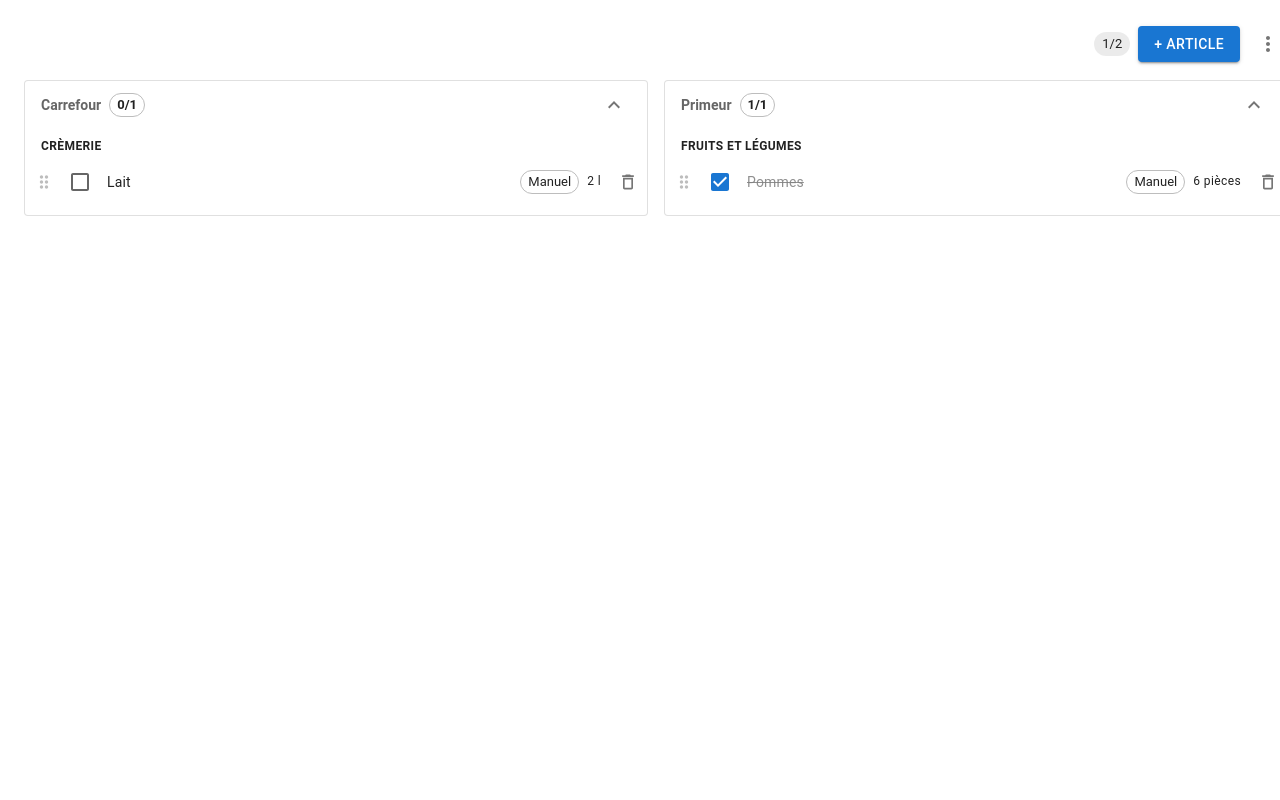
Scenario: GroceryListView — the page of the mockup › « Produit récurrent » opens the recurring products in a dialog
Expected: the text "Lait" is shown, [107,174,131,190]
Click the button named "Plus d'actions". click: (1264, 44)
box: [1248,24,1279,64]
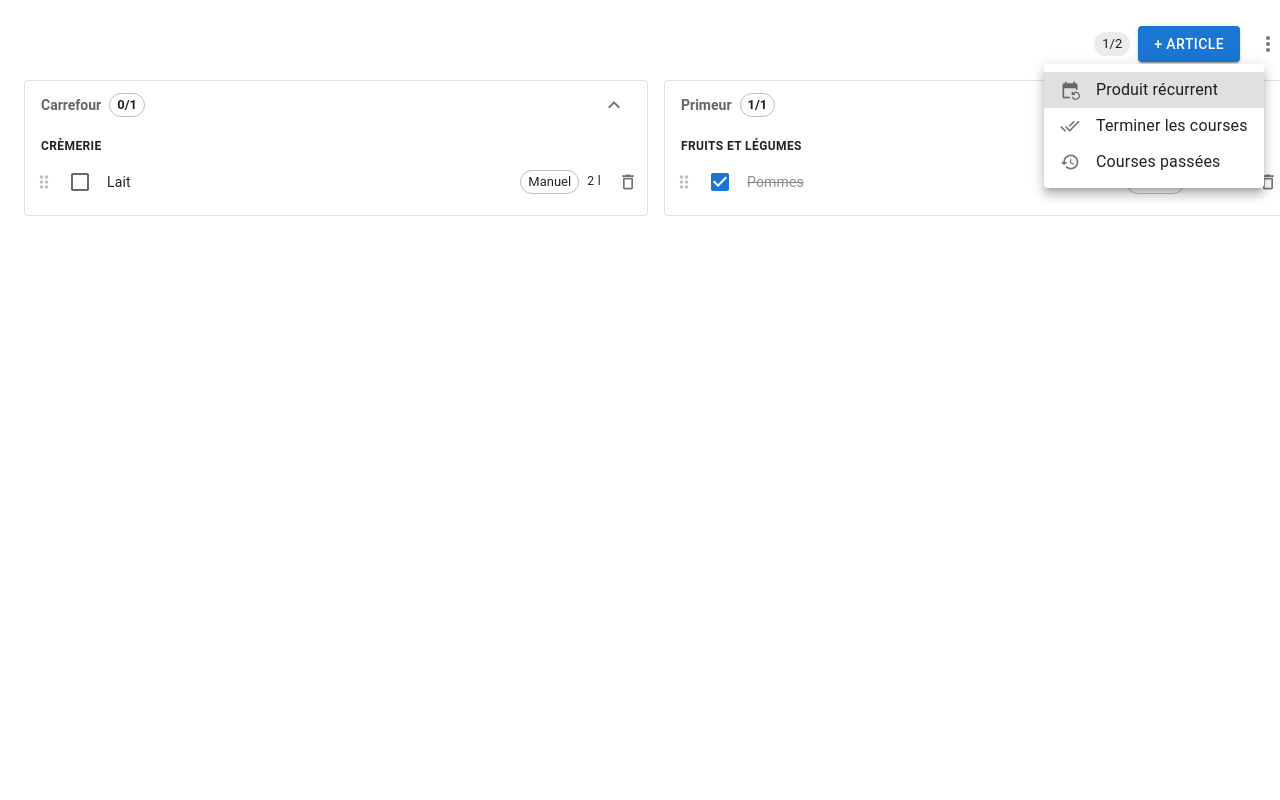
Click the menu item "Produit récurrent". click: (1154, 90)
box: [1044,72,1264,108]
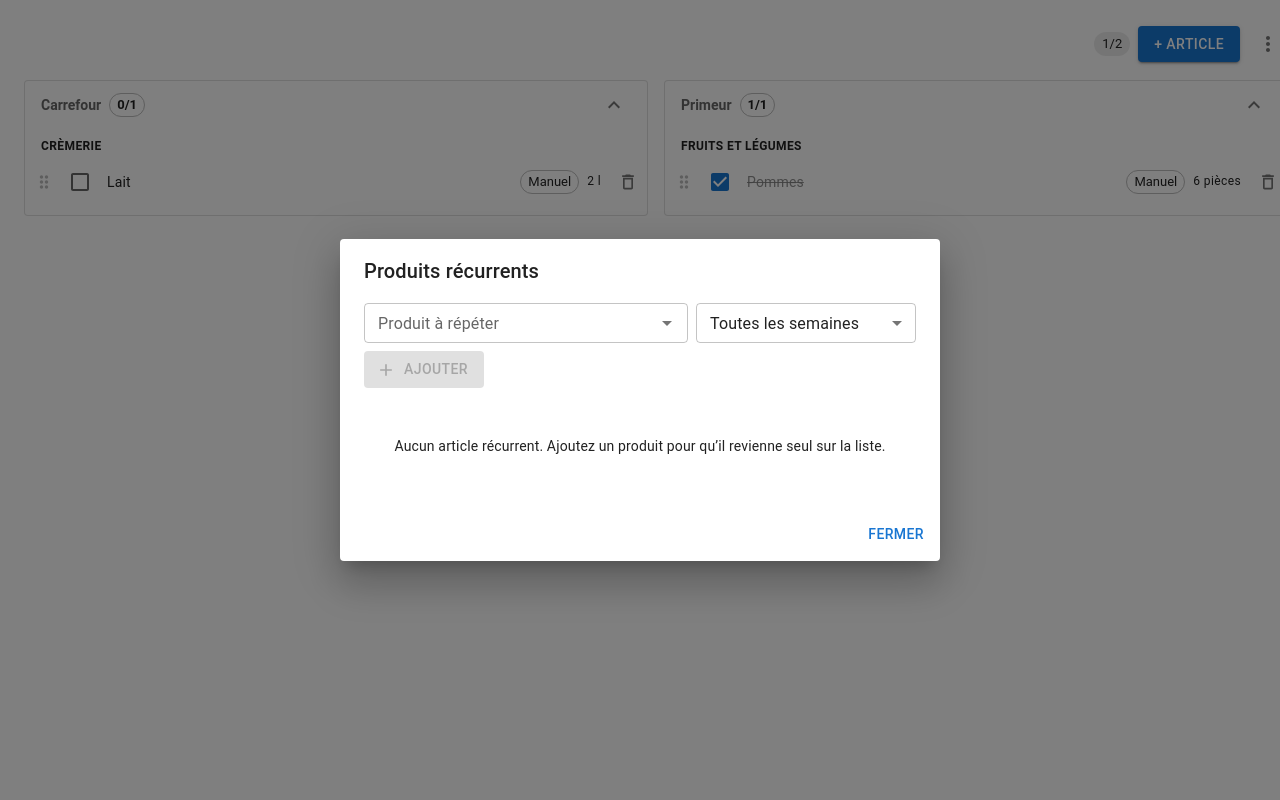
Now the element with test id "recurring-tab" is shown, box [364,304,916,488]
